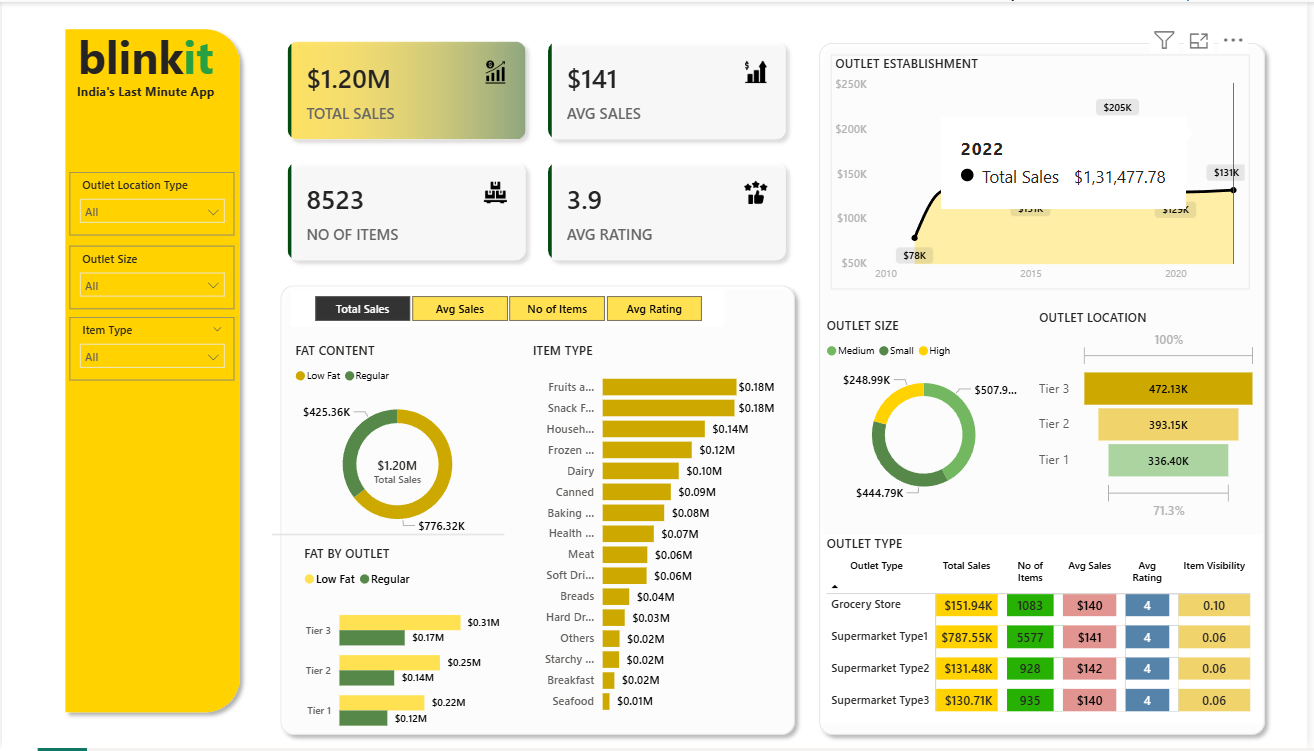

Layout of this report page (visuals, bound fields, positions):
{"tool":"powerbi","page":{"name":"Page 1","canvas":[1400,800],"ordinal":0},"visuals":[{"type":"shape","box":[59,20.1,205.1,750.7],"z":0},{"type":"textbox","box":[75.1,20.1,158.2,92.5],"z":1000},{"type":"textbox","box":[65.7,81.8,176.9,30.8],"z":2000},{"type":"cardVisual","fields":{"Data":["BlinkIT Grocery Data.Total Sales","BlinkIT Grocery Data.Avg Sales","BlinkIT Grocery Data.No of Items","BlinkIT Grocery Data.Avg Rating"]},"box":[289.5,25.5,569.7,269.4],"z":3000},{"type":"shape","box":[289.5,294.9,569.7,500],"z":4000},{"type":"donutChart","title":"FAT CONTENT","fields":{"Y":["BlinkIT Grocery Data.Total Sales"],"Category":["BlinkIT Grocery Data.Item Fat Content"]},"box":[309.7,364.6,229.2,217.2],"z":5000},{"type":"slicer","fields":{"Values":["Metrics.Metrics"]},"box":[309.7,308.3,465.1,40.2],"z":6000},{"type":"cardVisual","fields":{"Data":["BlinkIT Grocery Data.Total Sales"]},"box":[378,470.5,92.5,61.7],"z":7000},{"type":"clusteredBarChart","title":"FAT BY OUTLET","fields":{"Y":["BlinkIT Grocery Data.Total Sales"],"Category":["BlinkIT Grocery Data.Outlet Location Type"],"Series":["BlinkIT Grocery Data.Item Fat Content"]},"box":[319,581.8,219.8,218.5],"z":8000},{"type":"shape","box":[289.5,560.3,249.3,21.4],"z":9000},{"type":"barChart","title":"ITEM TYPE","fields":{"Y":["BlinkIT Grocery Data.Total Sales"],"Category":["BlinkIT Grocery Data.Item Type"]},"box":[564.3,364.6,269.4,408.8],"z":10000},{"type":"shape","box":[867.3,34.9,496,760.1],"z":11000},{"type":"lineChart","title":"OUTLET ESTABLISHMENT","fields":{"Category":["BlinkIT Grocery Data.Outlet Establishment Year"],"Y":["BlinkIT Grocery Data.Total Sales"]},"box":[888.7,56.3,449.1,252],"z":12000},{"type":"donutChart","title":"OUTLET SIZE","fields":{"Y":["BlinkIT Grocery Data.Total Sales"],"Category":["BlinkIT Grocery Data.Outlet Size"]},"box":[879.4,337.8,218.5,207.8],"z":13000},{"type":"funnel","title":"OUTLET LOCATION","fields":{"Y":["Sum(BlinkIT Grocery Data.Sales)"],"Category":["BlinkIT Grocery Data.Outlet Location Type"]},"box":[1107.2,328.4,244,231.9],"z":14000},{"type":"pivotTable","title":"OUTLET TYPE","fields":{"Rows":["BlinkIT Grocery Data.Outlet Type"],"Values":["BlinkIT Grocery Data.Total Sales","BlinkIT Grocery Data.No of Items","BlinkIT Grocery Data.Avg Sales","BlinkIT Grocery Data.Avg Rating","Avg(BlinkIT Grocery Data.Item Visibility)"]},"box":[879.4,571,471.9,202.4],"z":15000},{"type":"slicer","fields":{"Values":["BlinkIT Grocery Data.Outlet Location Type"]},"box":[72.4,182.3,176.9,68.4],"z":16000},{"type":"slicer","fields":{"Values":["BlinkIT Grocery Data.Outlet Size"]},"box":[72.4,261.4,176.9,68.4],"z":17000},{"type":"slicer","fields":{"Values":["BlinkIT Grocery Data.Item Type"]},"box":[72.4,337.8,176.9,68.4],"z":18000}]}

Visuals, with their boxes in screenshot pixels (x1, y1, x2, y2), scaled from the page's 1400x800 canvas onto the 1314x751 screenshot:
shape: bbox=[55, 19, 248, 724]
textbox: bbox=[70, 19, 219, 106]
textbox: bbox=[62, 77, 228, 106]
cardVisual - BlinkIT Grocery Data.Total Sales x BlinkIT Grocery Data.Avg Sales: bbox=[272, 24, 806, 277]
shape: bbox=[272, 277, 806, 746]
"FAT CONTENT" donutChart: bbox=[291, 342, 506, 546]
slicer - Metrics.Metrics: bbox=[291, 289, 727, 327]
cardVisual - BlinkIT Grocery Data.Total Sales: bbox=[355, 442, 442, 500]
"FAT BY OUTLET" clusteredBarChart: bbox=[299, 546, 506, 750]
shape: bbox=[272, 526, 506, 546]
"ITEM TYPE" barChart: bbox=[530, 342, 782, 726]
shape: bbox=[814, 33, 1280, 746]
"OUTLET ESTABLISHMENT" lineChart: bbox=[834, 53, 1256, 289]
"OUTLET SIZE" donutChart: bbox=[825, 317, 1030, 512]
"OUTLET LOCATION" funnel: bbox=[1039, 308, 1268, 526]
"OUTLET TYPE" pivotTable: bbox=[825, 536, 1268, 726]
slicer - BlinkIT Grocery Data.Outlet Location Type: bbox=[68, 171, 234, 235]
slicer - BlinkIT Grocery Data.Outlet Size: bbox=[68, 245, 234, 310]
slicer - BlinkIT Grocery Data.Item Type: bbox=[68, 317, 234, 381]
